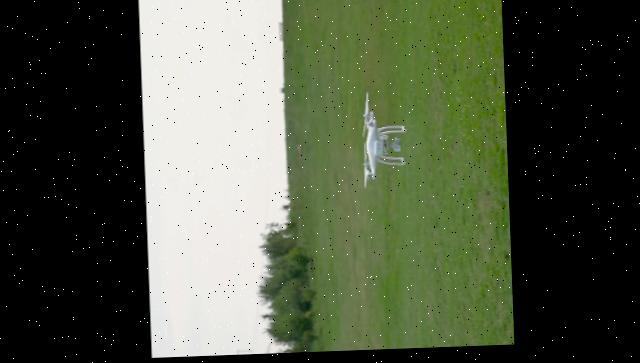drone: (357, 92, 407, 189)
